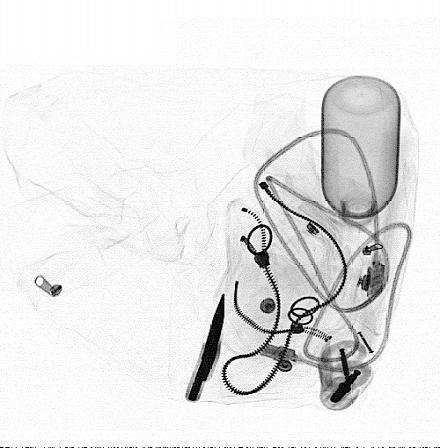Pliers: (187, 291, 227, 403)
